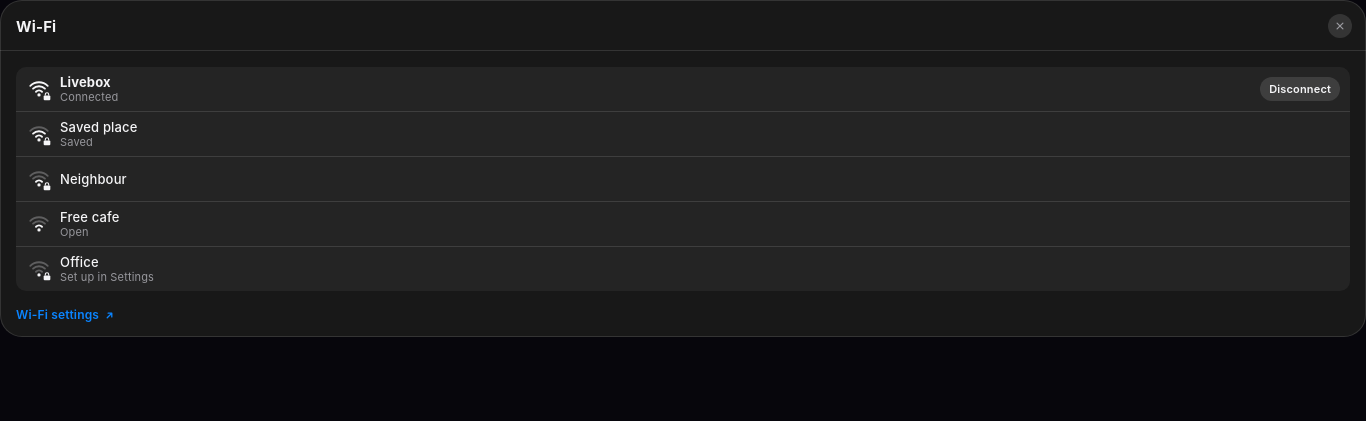
Test: a password Windows would refuse stays in the box with the reason
The width and height of the screenshot is (1366, 421).
Click the button "Neighbour" at (93, 179), box [16,157,1350,201]
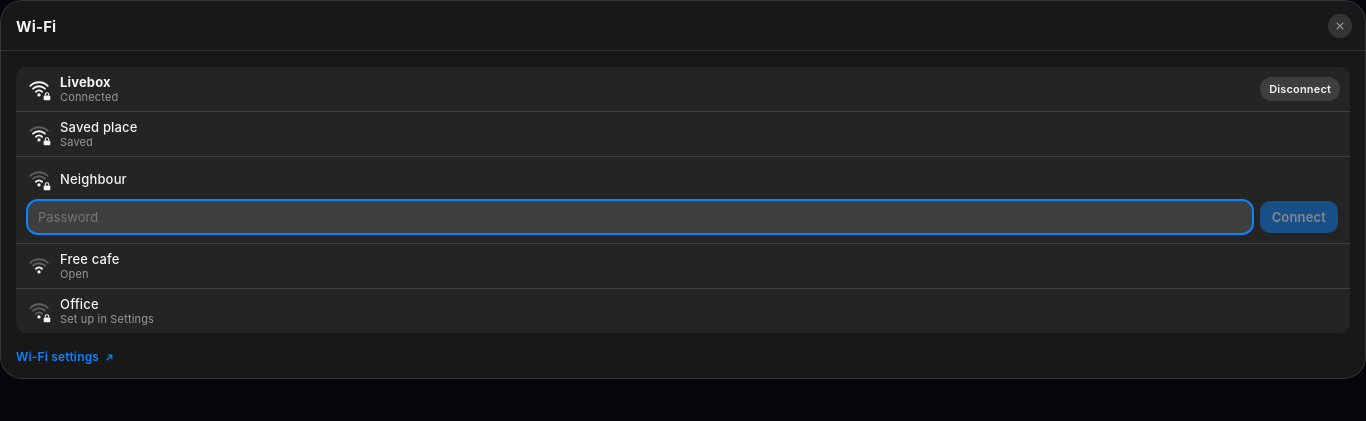
Type "short" into the password field named "Password for Neighbour" at (640, 217), box [28,201,1252,233]
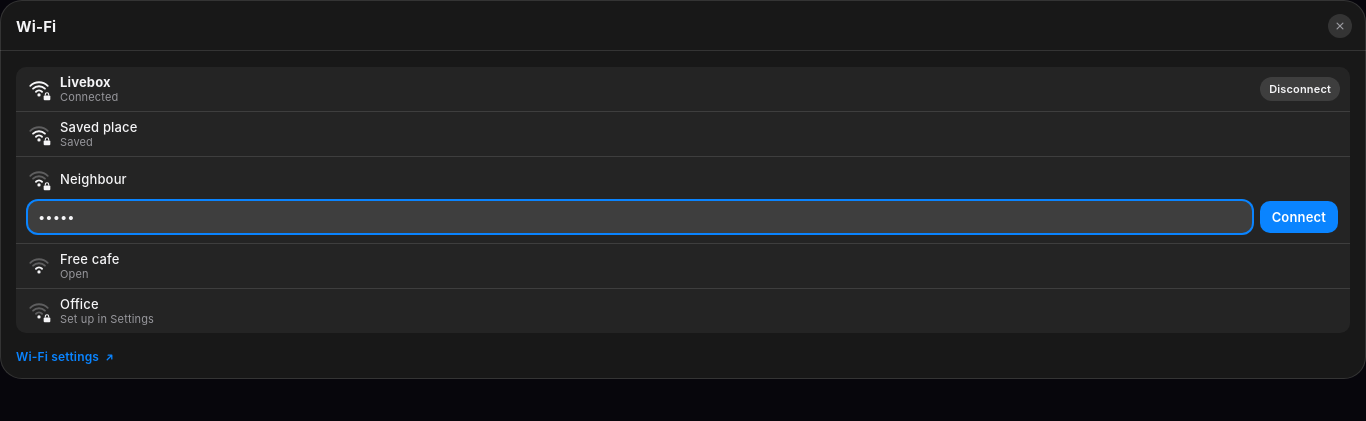
Click the button "Connect" at (1299, 217), box [1260,201,1338,233]
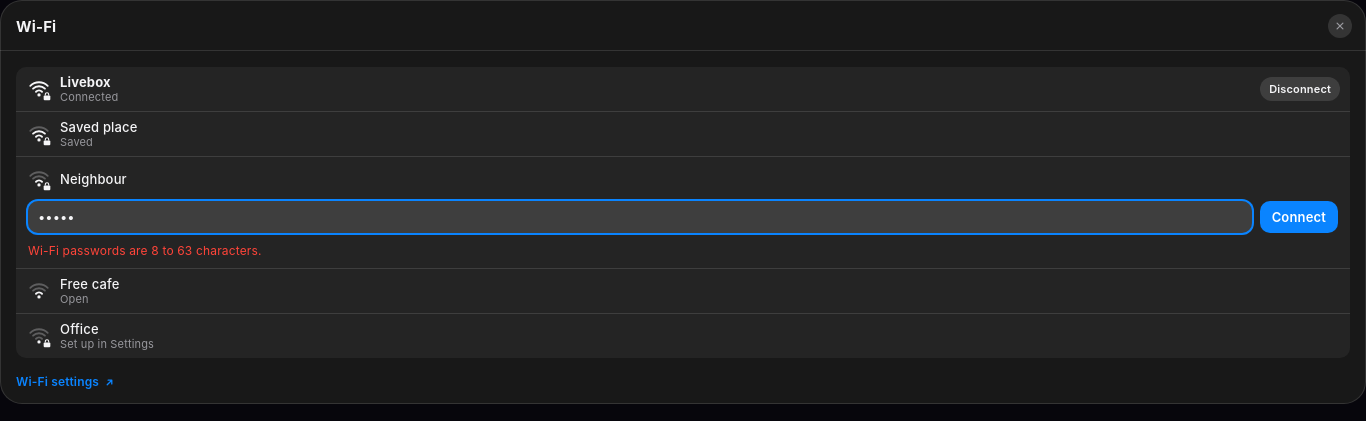
Check: the text "Wi-Fi passwords are 8 to 63 characters." is shown, box [28,243,262,258]
